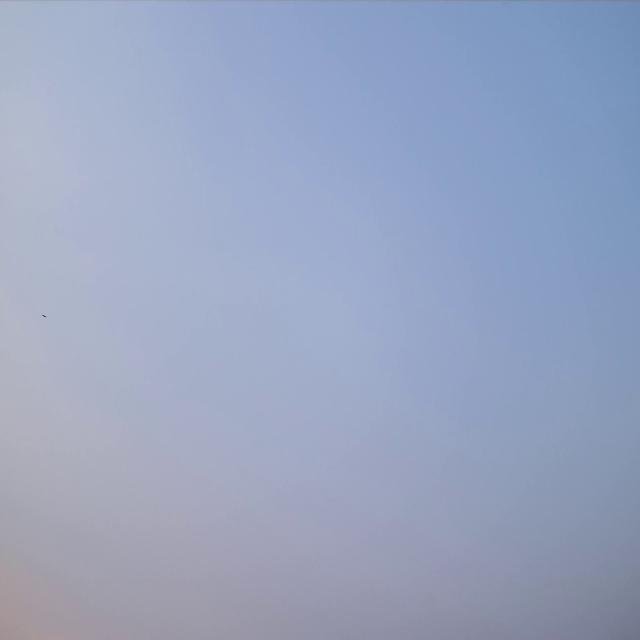UAV: (42, 314, 46, 318)
